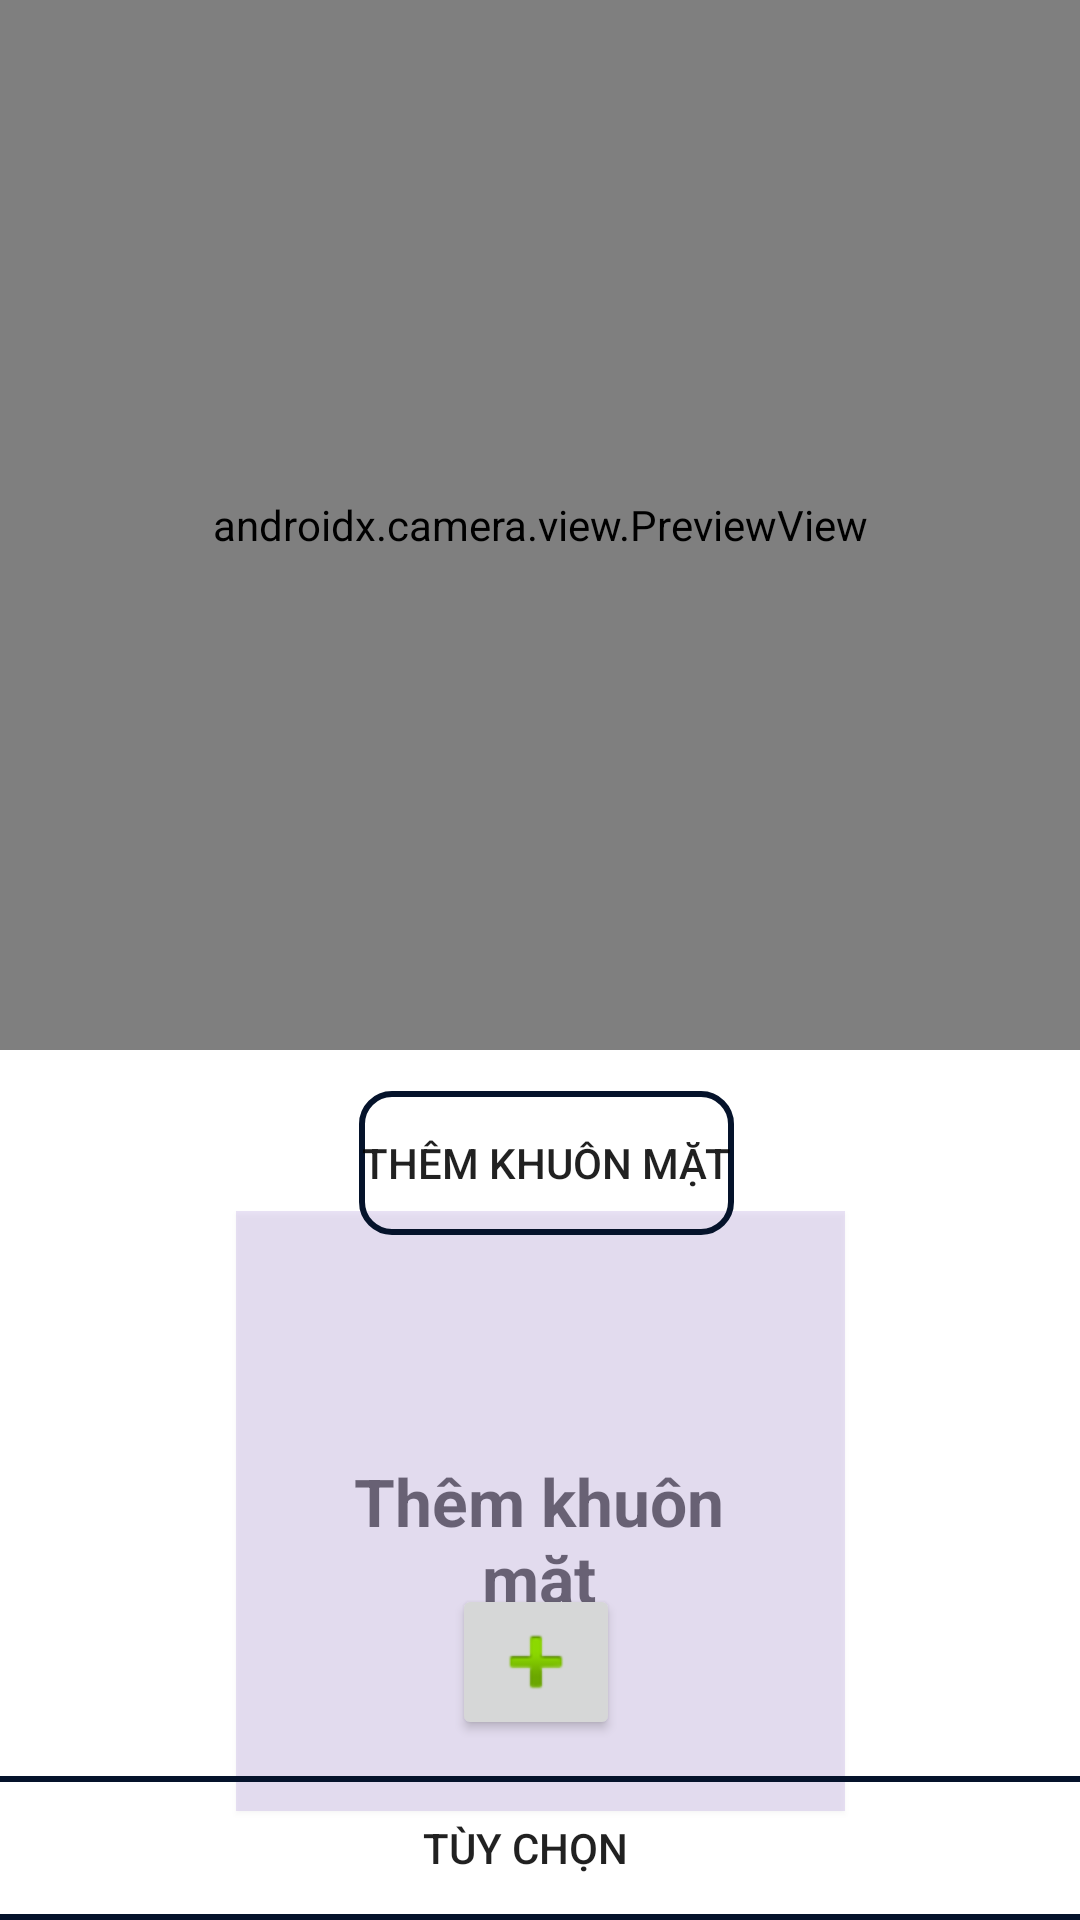

Icon bounding boxes for this 1080px×1920px phone screenshot, format [x1,y1,x2,y2]:
add: [461,1584,611,1732]
